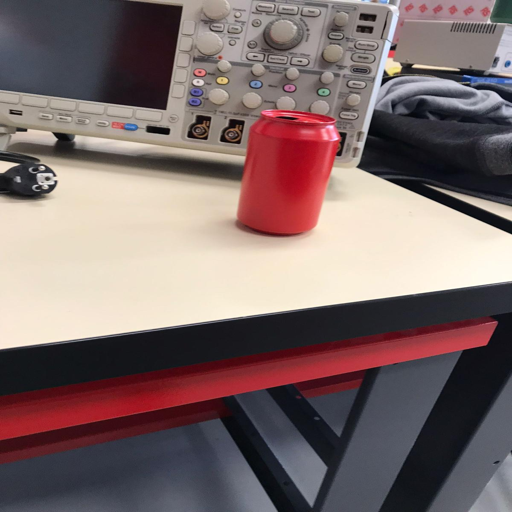Red_Can: (234, 107, 340, 238)
